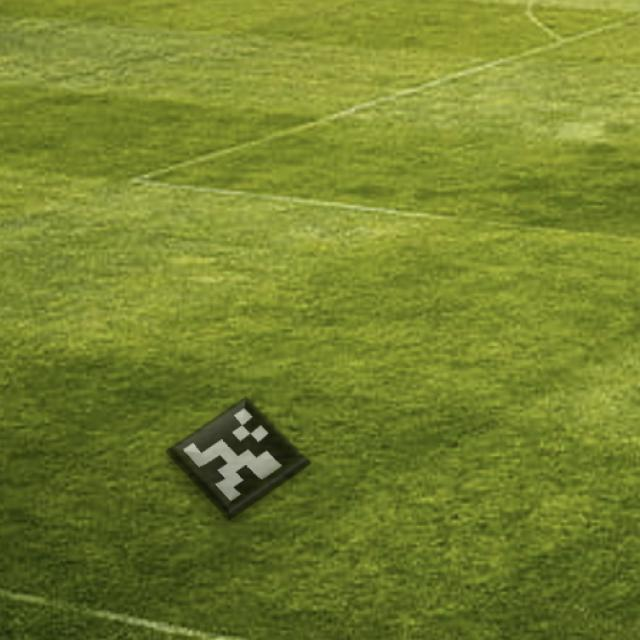marker: (161, 388, 322, 529)
